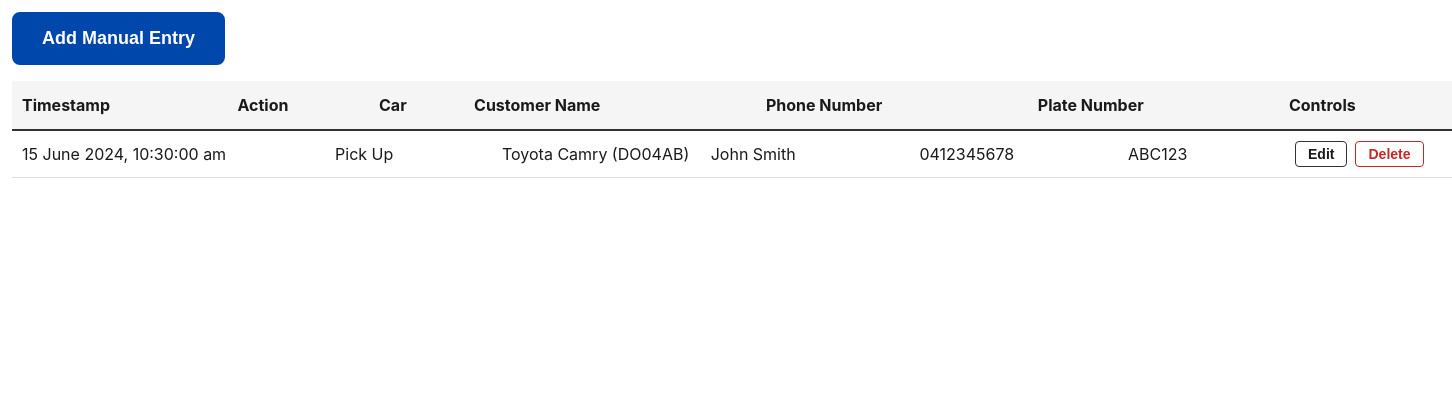
LogTable › shows edit form when edit button is clicked
Click the button with aria-label "Edit log entry for John Smith" at (1321, 154), box [1295,141,1348,167]
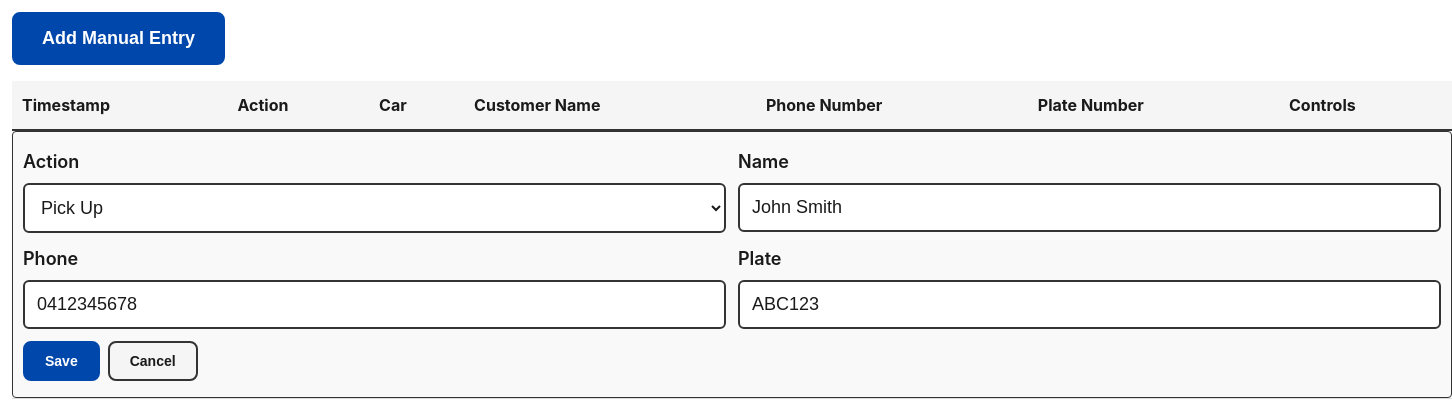
Expected: the field labelled "Name" is shown, [738,183,1441,232]
Expected: the field labelled "Phone" is shown, [23,280,726,329]
Expected: the button "Save" is shown, [23,341,100,381]
